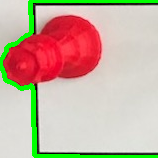Red Queen: (2, 12, 103, 87)
